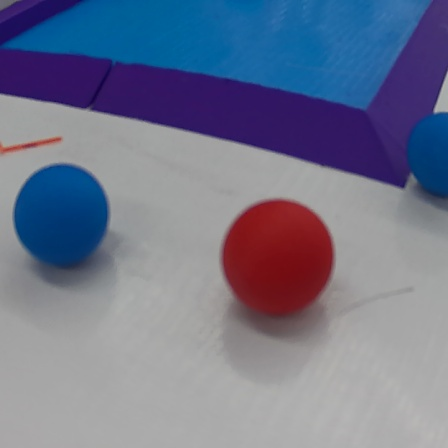blue: (12, 163, 114, 272), (404, 109, 448, 206)
blue_aim: (3, 2, 448, 195)
red: (220, 198, 337, 319)
